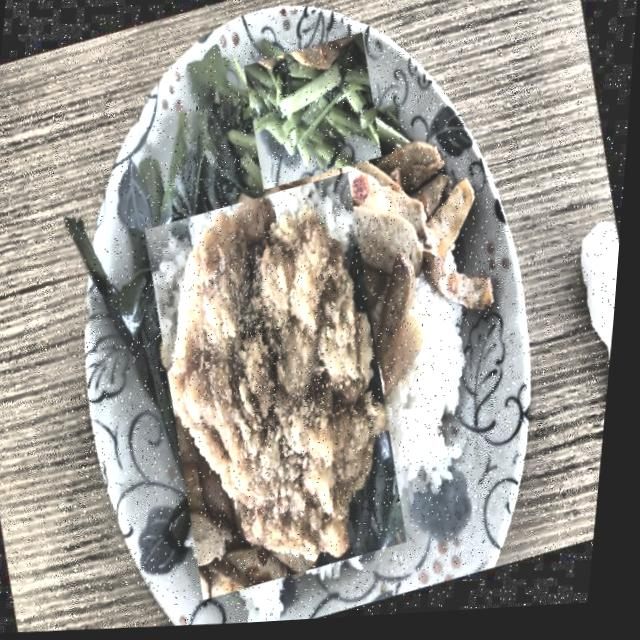Food: (118, 167, 443, 610), (234, 32, 394, 197)
